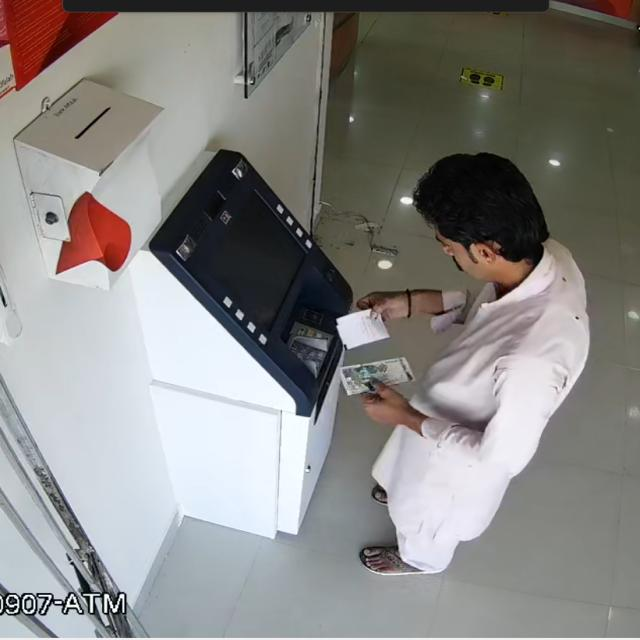note: (331, 349, 428, 402)
